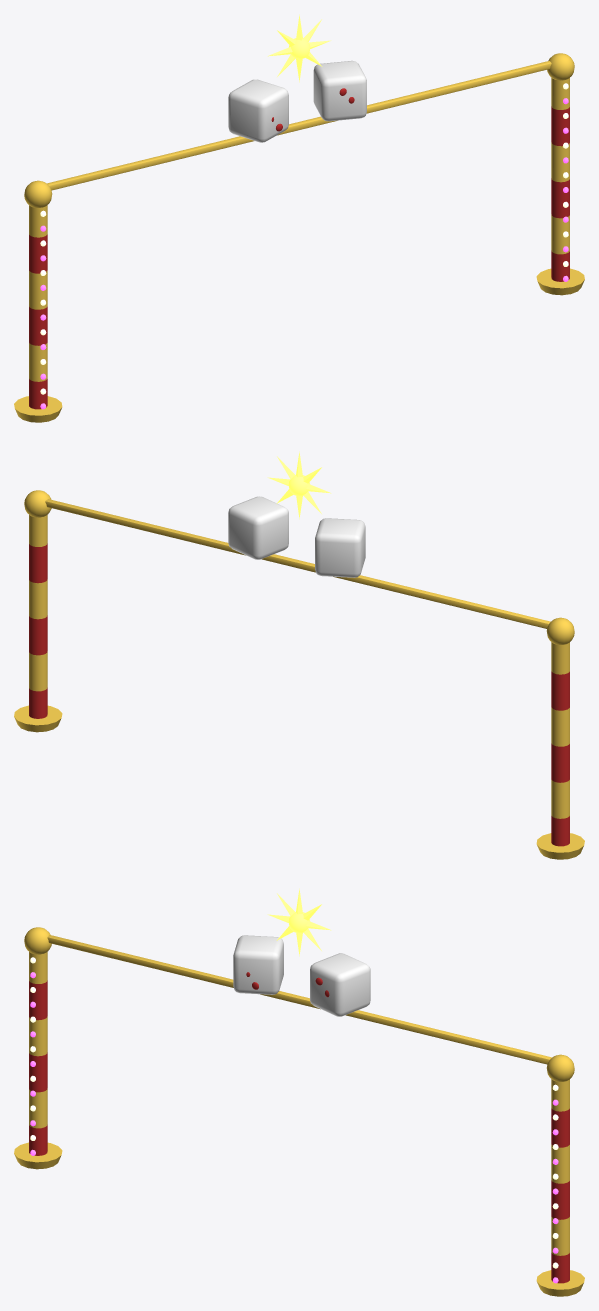
Rendered from journey_gate_vegas.glb.
3 renders of one model, top to bottom at view 1: azimuth 30°, elevation 25°; view 2: azimuth 150°, elevation 25°; view 3: azimuth 330°, elevation 25°, orthographic.
Visible parts, largest first — view 1: Gate_body.004; view 2: Gate_body.004; view 3: Gate_body.004.
Boxes of the visible parts, x1=… form: Gate_body.004: x1=14, y1=14, x2=584, y2=422; Gate_body.004: x1=14, y1=451, x2=584, y2=859; Gate_body.004: x1=14, y1=888, x2=584, y2=1296.
Bounding box in the file's own units: 20.72 × 11.8 × 1.83.
